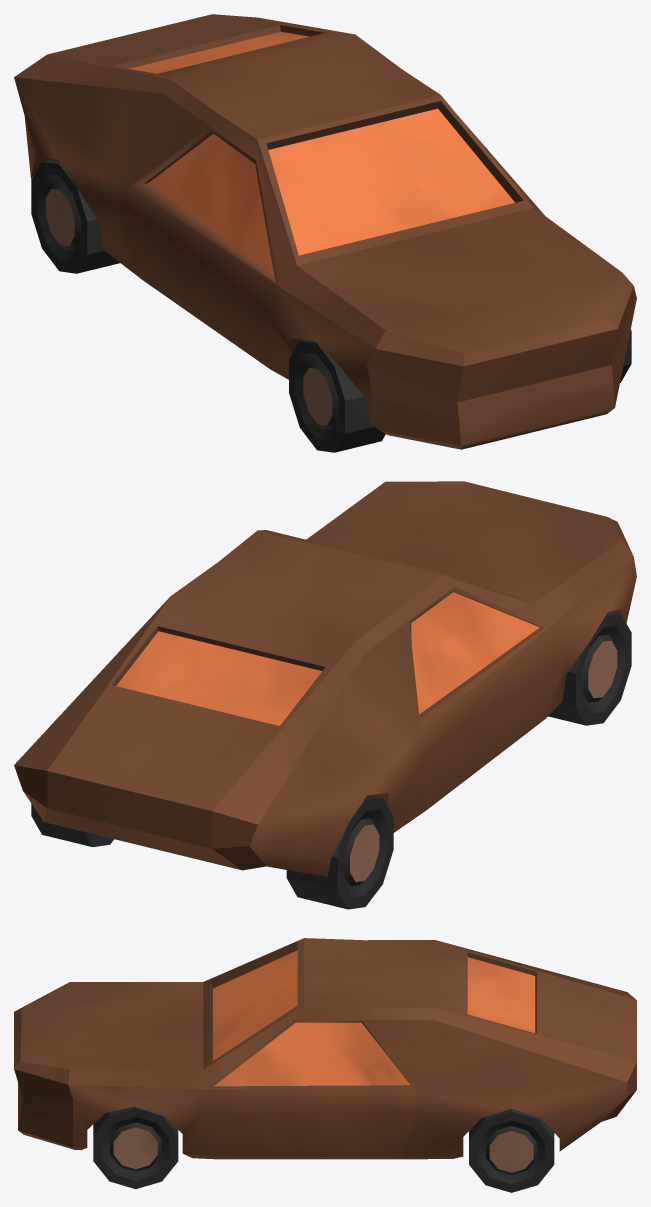
Rendered from SM_BGCar.fbx.
3 renders of one model, top to bottom at view 1: azimuth 30°, elevation 25°; view 2: azimuth 150°, elevation 25°; view 3: azimuth 270°, elevation 25°, orthographic. The views are drawn at different scales.
Visible parts, largest first — view 1: CarBackground; view 2: CarBackground; view 3: CarBackground.
Boxes of the visible parts, bbox=[...] form: CarBackground: bbox=[14, 14, 636, 452]; CarBackground: bbox=[14, 481, 636, 909]; CarBackground: bbox=[14, 938, 636, 1192].
Size of the model in its own units: 2.1 by 1.39 by 4.76.
